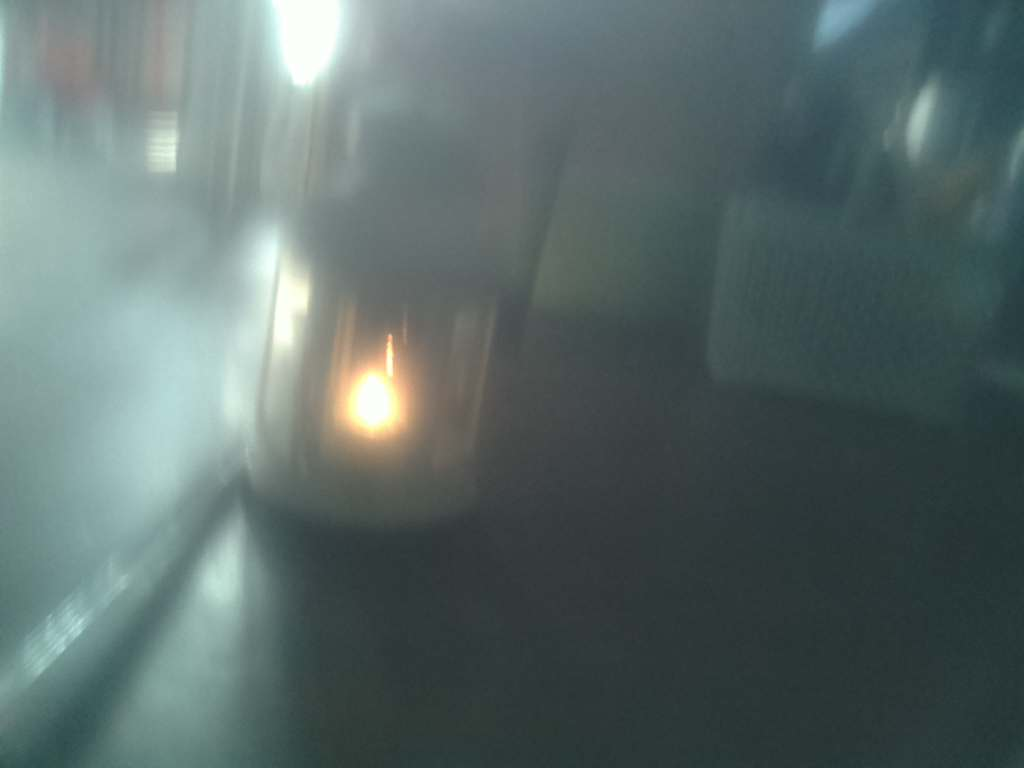fire: (330, 343, 438, 464)
